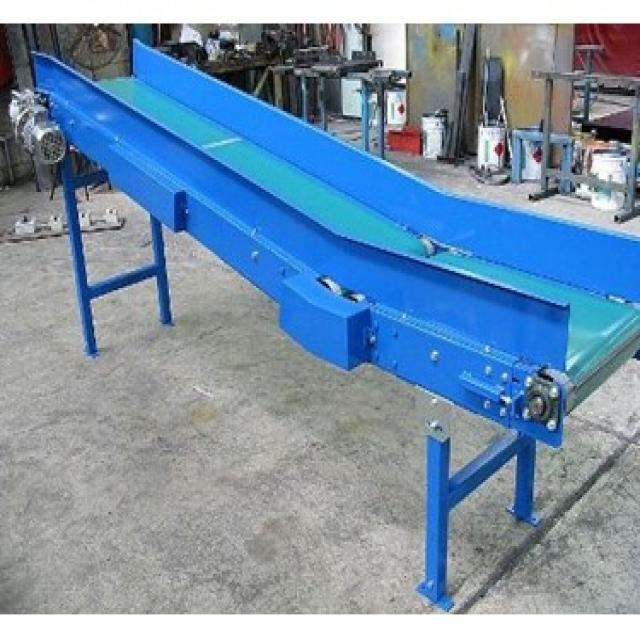Convoyeur: (29, 39, 640, 445)
